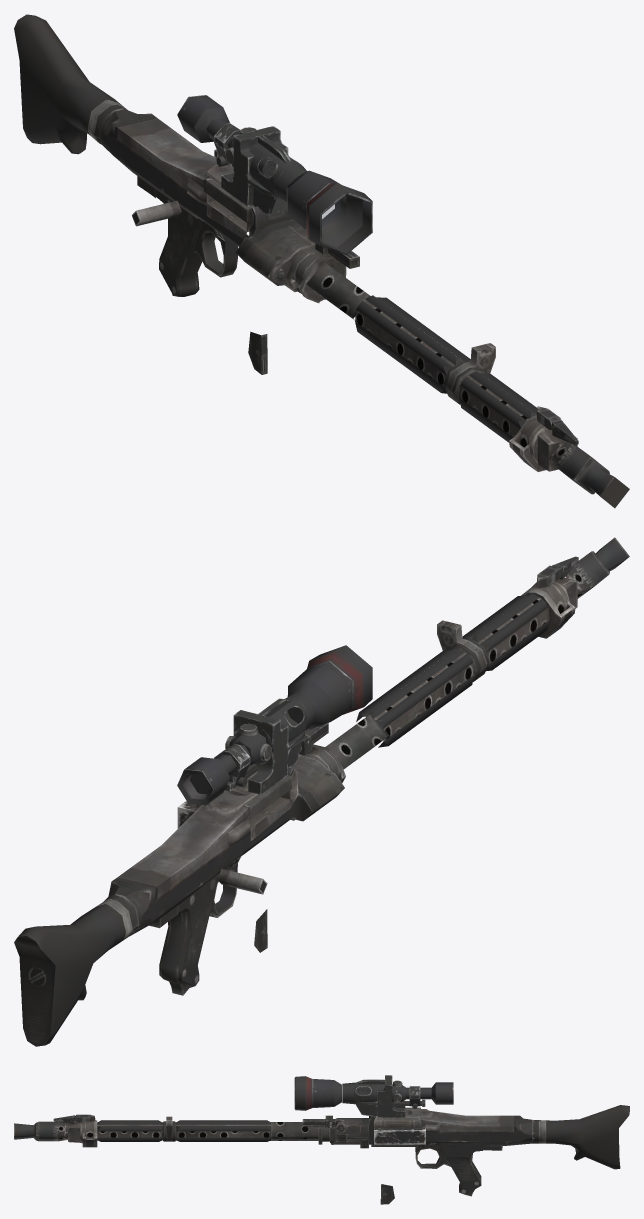
The model's file is dlt19x.lod1.glb.
3 views of the same model, one above another, from view 1: azimuth 30°, elevation 25°; view 2: azimuth 150°, elevation 25°; view 3: azimuth 270°, elevation 25° (orthographic). The views are drawn at different scales.
Parts seen in each view (by area): view 1: dlt19x_mesh3p_mesh; view 2: dlt19x_mesh3p_mesh; view 3: dlt19x_mesh3p_mesh.
Boxes of the visible parts, left/top/right/bottom form: dlt19x_mesh3p_mesh: left=14, top=14, right=629, bottom=508; dlt19x_mesh3p_mesh: left=14, top=537, right=629, bottom=1046; dlt19x_mesh3p_mesh: left=14, top=1075, right=629, bottom=1204.
Size of the model in its own units: 0.1291 by 0.2793 by 1.22.
3 materials, 2 textured.
